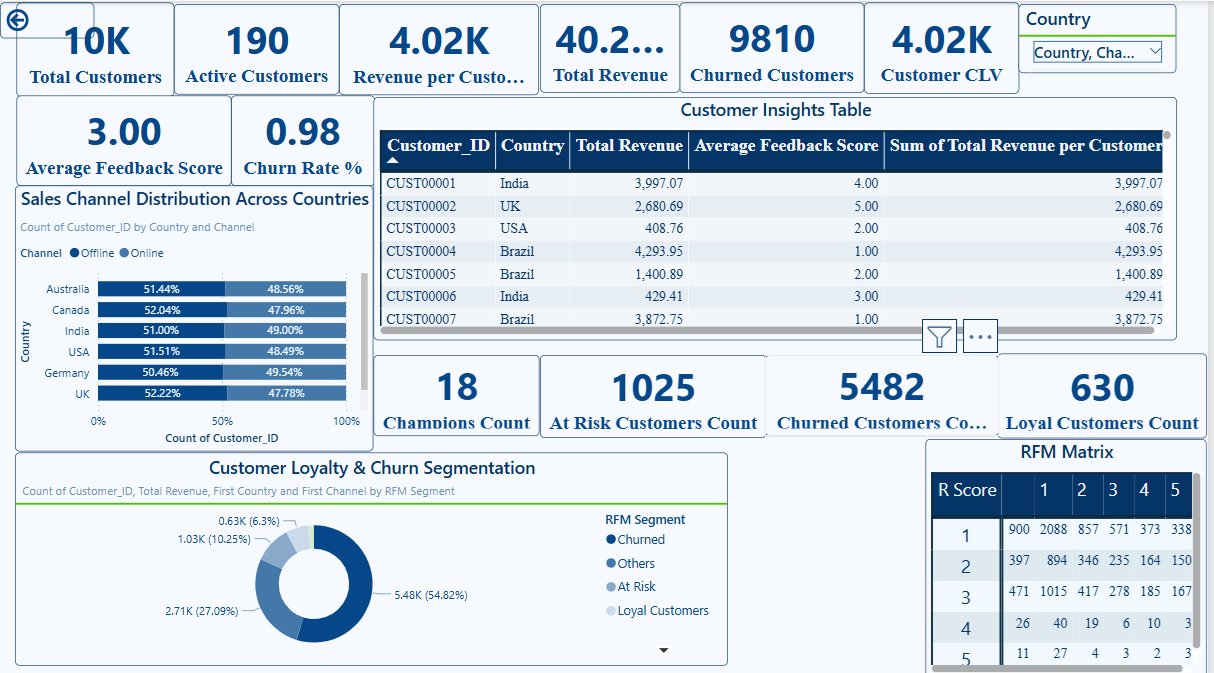

Layout of this report page (visuals, bound fields, positions):
{"tool":"powerbi","page":{"name":"Page 1","canvas":[1280,720],"ordinal":0},"visuals":[{"type":"card","fields":{"Values":["Customer_Churn_Retention_Analysis.Total Customers"]},"box":[16.9,1.9,167.5,99.8],"z":0},{"type":"card","fields":{"Values":["Customer_Churn_Retention_Analysis.Active Customers"]},"box":[184.5,3.8,175.1,96],"z":1000},{"type":"card","fields":{"Values":["Customer_Churn_Retention_Analysis.Churned Customers"]},"box":[720.9,1.9,195.8,96],"z":2000},{"type":"card","fields":{"Values":["Customer_Churn_Retention_Analysis.Churn Rate %"]},"box":[244.7,99.8,152.5,96],"z":3000},{"type":"card","fields":{"Values":["Customer_Churn_Retention_Analysis.Total Revenue"]},"box":[572.2,3.8,148.7,94.1],"z":4000},{"type":"card","fields":{"Values":["Customer_Churn_Retention_Analysis.Revenue per Customer"]},"box":[360,3.3,211.7,96.7],"z":5000},{"type":"card","fields":{"Values":["Customer_Churn_Retention_Analysis.Average Feedback Score"]},"box":[16.9,99.8,227.8,96],"z":6000},{"type":"card","fields":{"Values":["Customer_Churn_Retention_Analysis.Customer CLV"]},"box":[916.4,1.8,164.5,96.4],"z":7000},{"type":"tableEx","title":" Customer Insights Table","fields":{"Values":["Customer_Churn_Retention_Analysis.Customer_ID","Customer_Churn_Retention_Analysis.Country","Customer_Churn_Retention_Analysis.Total Revenue","Customer_Churn_Retention_Analysis.Average Feedback Score","Sum(Customer_Churn_Retention_Analysis.Total Revenue per Customer)"]},"box":[396,102,852,258],"z":8000},{"type":"actionButton","box":[0,2,100,38],"z":9000},{"type":"pivotTable","title":"RFM Matrix","fields":{"Rows":["Customer_Churn_Retention_Analysis.R Score"],"Columns":["Customer_Churn_Retention_Analysis.M Score"],"Values":["CountNonNull(Customer_Churn_Retention_Analysis.Customer_ID)"]},"box":[982,464,298,254],"z":10000},{"type":"donutChart","title":"Customer Loyalty & Churn Segmentation","fields":{"Category":["Customer_Churn_Retention_Analysis.RFM Segment"],"Y":["CountNonNull(Customer_Churn_Retention_Analysis.Customer_ID)"]},"box":[16,478,756,226],"z":11000},{"type":"slicer","title":"Country","fields":{"Values":["Customer_Churn_Retention_Analysis.Country","Customer_Churn_Retention_Analysis.Channel"]},"box":[1080.5,3.8,167.5,73.4],"z":12000},{"type":"hundredPercentStackedBarChart","title":"Sales Channel Distribution Across Countries","fields":{"Category":["Customer_Churn_Retention_Analysis.Country"],"Y":["CountNonNull(Customer_Churn_Retention_Analysis.Customer_ID)"],"Series":["Customer_Churn_Retention_Analysis.Channel"]},"box":[16.7,195,380,281.7],"z":13000},{"type":"card","fields":{"Values":["Customer_Churn_Retention_Analysis.Champions Count"]},"box":[396,376,176,86],"z":14000},{"type":"card","fields":{"Values":["Customer_Churn_Retention_Analysis.Loyal Customers Count"]},"box":[1058,374,222,90],"z":15000},{"type":"card","fields":{"Values":["Customer_Churn_Retention_Analysis.At Risk Customers Count"]},"box":[572,376,240,88],"z":16000},{"type":"card","fields":{"Values":["Customer_Churn_Retention_Analysis.Churned Customers Count"]},"box":[812,376,248,86],"z":17000}]}

Visuals, with their boxes in screenshot pixels (x1, y1, x2, y2), scaled from the page's 1280x720 canvas onto the 1214x673 screenshot:
card - Customer_Churn_Retention_Analysis.Total Customers: crop(16, 2, 175, 95)
card - Customer_Churn_Retention_Analysis.Active Customers: crop(175, 4, 341, 93)
card - Customer_Churn_Retention_Analysis.Churned Customers: crop(684, 2, 869, 92)
card - Customer_Churn_Retention_Analysis.Churn Rate %: crop(232, 93, 377, 183)
card - Customer_Churn_Retention_Analysis.Total Revenue: crop(543, 4, 684, 92)
card - Customer_Churn_Retention_Analysis.Revenue per Customer: crop(341, 3, 542, 93)
card - Customer_Churn_Retention_Analysis.Average Feedback Score: crop(16, 93, 232, 183)
card - Customer_Churn_Retention_Analysis.Customer CLV: crop(869, 2, 1025, 92)
" Customer Insights Table" tableEx: crop(376, 95, 1184, 336)
actionButton: crop(0, 2, 95, 37)
"RFM Matrix" pivotTable: crop(931, 434, 1213, 671)
"Customer Loyalty & Churn Segmentation" donutChart: crop(15, 447, 732, 658)
"Country" slicer: crop(1025, 4, 1184, 72)
"Sales Channel Distribution Across Countries" hundredPercentStackedBarChart: crop(16, 182, 376, 446)
card - Customer_Churn_Retention_Analysis.Champions Count: crop(376, 351, 543, 432)
card - Customer_Churn_Retention_Analysis.Loyal Customers Count: crop(1003, 350, 1213, 434)
card - Customer_Churn_Retention_Analysis.At Risk Customers Count: crop(543, 351, 770, 434)
card - Customer_Churn_Retention_Analysis.Churned Customers Count: crop(770, 351, 1005, 432)
